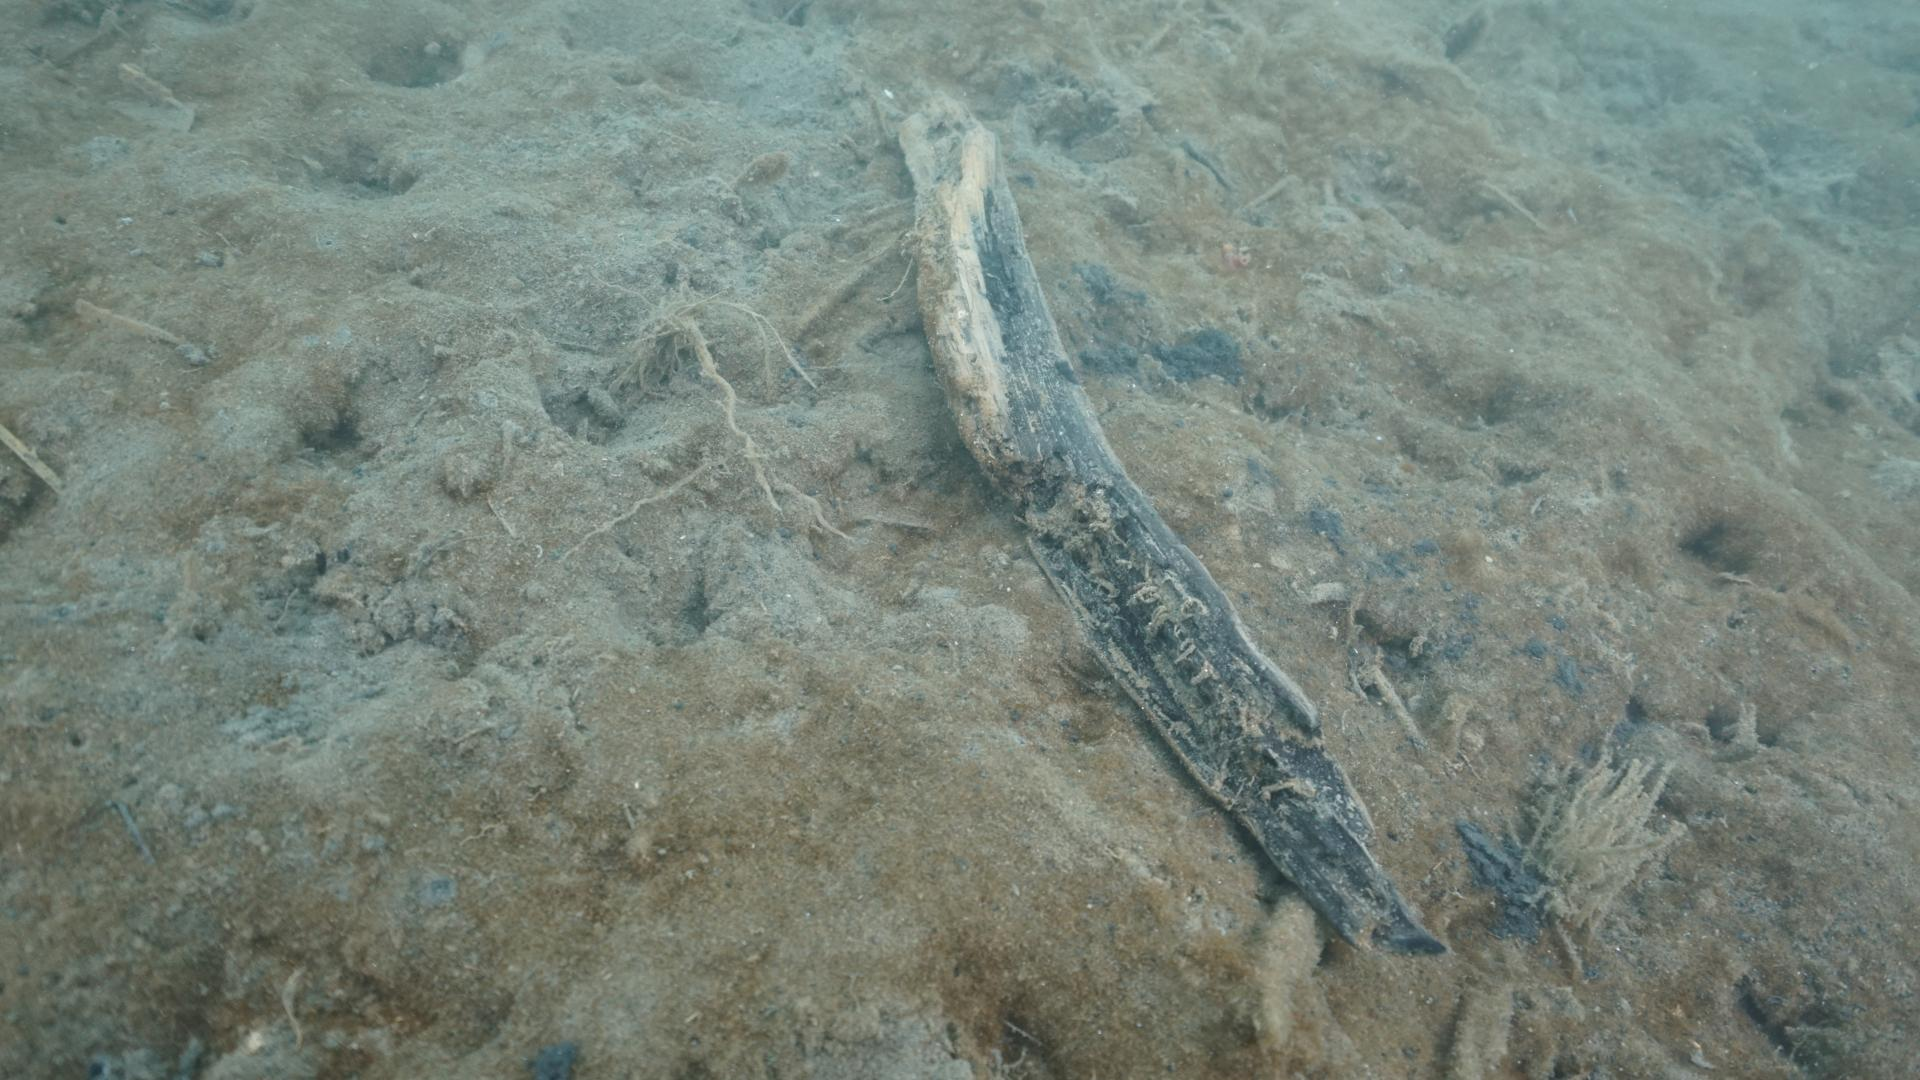wood: (894, 87, 1448, 957)
